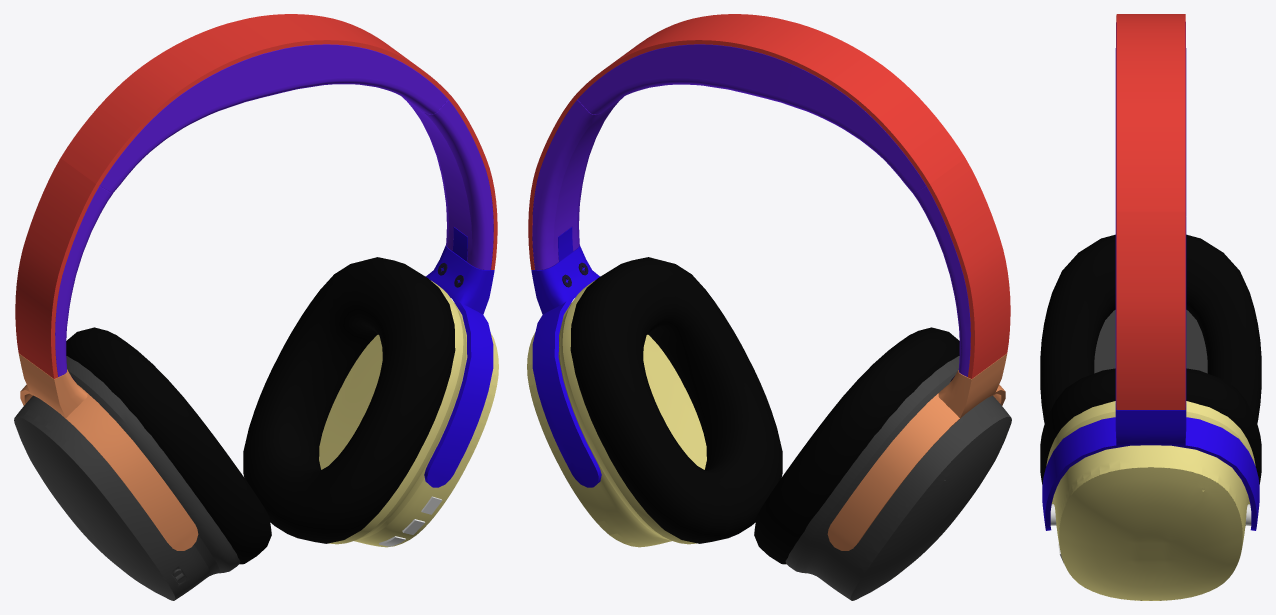
File: headset.glb
The picture shows the model from 3 angles, left to right: view 1: azimuth 30°, elevation 25°; view 2: azimuth 150°, elevation 25°; view 3: azimuth 270°, elevation 25°; orthographic projection. The views are drawn at different scales.
Visible parts, largest first — view 1: foam_right, cup_handle_5, cup_handle_2_1, cup_left, foam_left, buttom_3, cup_handle_3_1, cup_handle_1b; view 2: foam_right, cup_handle_5, cup_handle_2_1, cup_left, foam_left, buttom_3, cup_handle_3_1, cup_handle_1b; view 3: cup_handle_5, buttom_3, foam_left, cup_handle_1b, foam_right, cup_left, cup_handle_2_1.
Part boxes in pixels (x1,y1,x2,y2): foam_right: (243, 257, 455, 543); cup_handle_5: (15, 14, 497, 378); cup_handle_2_1: (55, 44, 493, 376); cup_left: (14, 356, 240, 600); foam_left: (66, 327, 271, 564); buttom_3: (319, 280, 498, 547); cup_handle_3_1: (18, 353, 198, 550); cup_handle_1b: (424, 227, 494, 487); foam_right: (570, 257, 782, 543); cup_handle_5: (528, 14, 1010, 378); cup_handle_2_1: (532, 44, 970, 376); cup_left: (785, 356, 1011, 600); foam_left: (754, 327, 959, 564); buttom_3: (527, 280, 706, 547); cup_handle_3_1: (827, 353, 1007, 550); cup_handle_1b: (531, 227, 601, 487); cup_handle_5: (1116, 14, 1185, 409); buttom_3: (1046, 401, 1255, 600); foam_left: (1040, 234, 1261, 423); cup_handle_1b: (1042, 403, 1259, 530); foam_right: (1040, 368, 1261, 484); cup_left: (1094, 310, 1207, 373); cup_handle_2_1: (1115, 22, 1186, 406).
Bounding box in the file's own units: 5.36 × 6.1 × 2.38.
